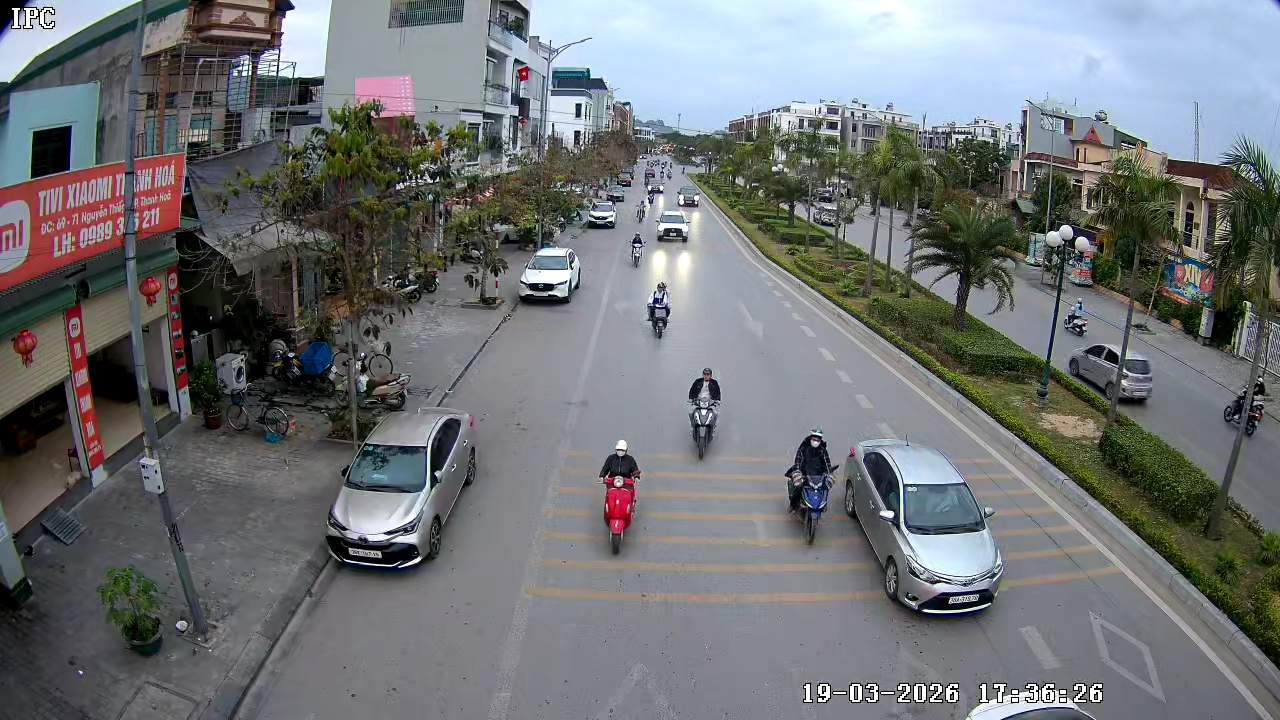car: (844, 438, 1005, 612), (325, 407, 477, 570), (1065, 342, 1153, 408), (518, 246, 582, 304), (655, 207, 692, 242), (583, 196, 619, 229), (677, 187, 699, 210)
motorbike: (782, 425, 840, 546), (596, 439, 644, 555), (353, 341, 412, 412), (684, 365, 724, 461), (645, 281, 672, 339), (629, 232, 645, 267), (635, 201, 651, 224)
